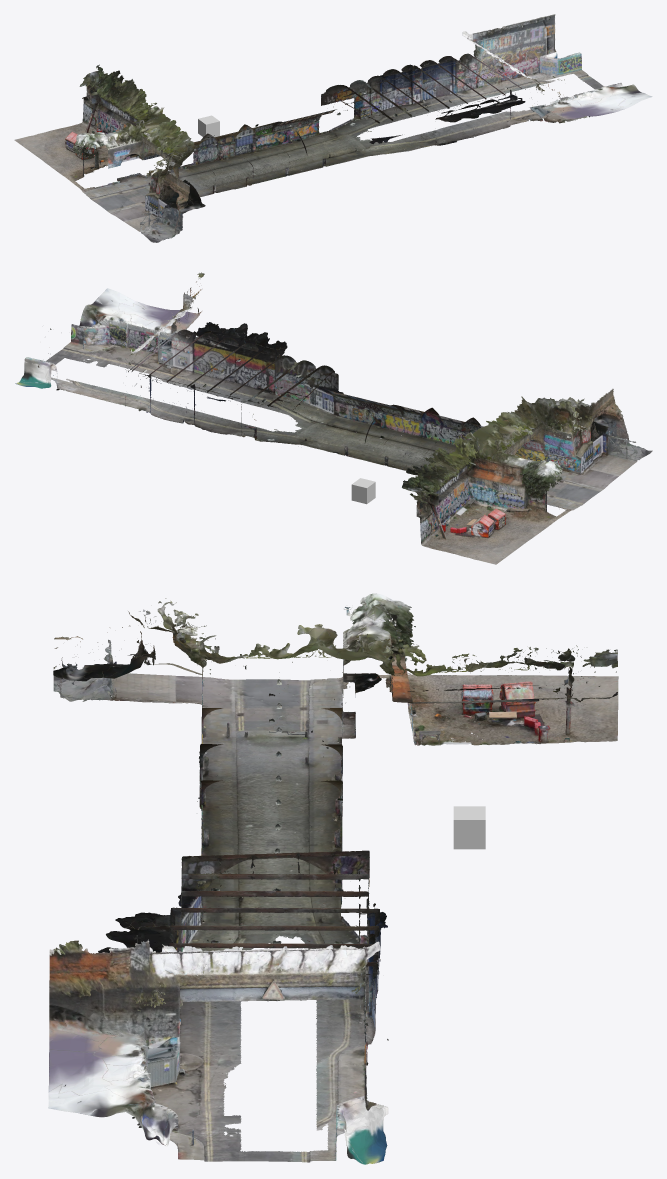
Rendered from tunnel-phone.glb.
3 renders of one model, top to bottom at view 1: azimuth 30°, elevation 25°; view 2: azimuth 150°, elevation 25°; view 3: azimuth 270°, elevation 25°, orthographic. The views are drawn at different scales.
Parts seen in each view (by area): view 1: Object_2, Cube; view 2: Object_2, Cube; view 3: Object_2, Cube.
Part boxes in pixels (x1,y1,x2,y2): Object_2: [14, 14, 652, 242]; Cube: [198, 115, 219, 137]; Object_2: [15, 272, 652, 564]; Cube: [351, 478, 375, 504]; Object_2: [48, 593, 618, 1164]; Cube: [453, 806, 485, 849].
Bounding box in the file's own units: 71.54 × 9.66 × 35.39.
Materials: 2 (1 with a texture image).
